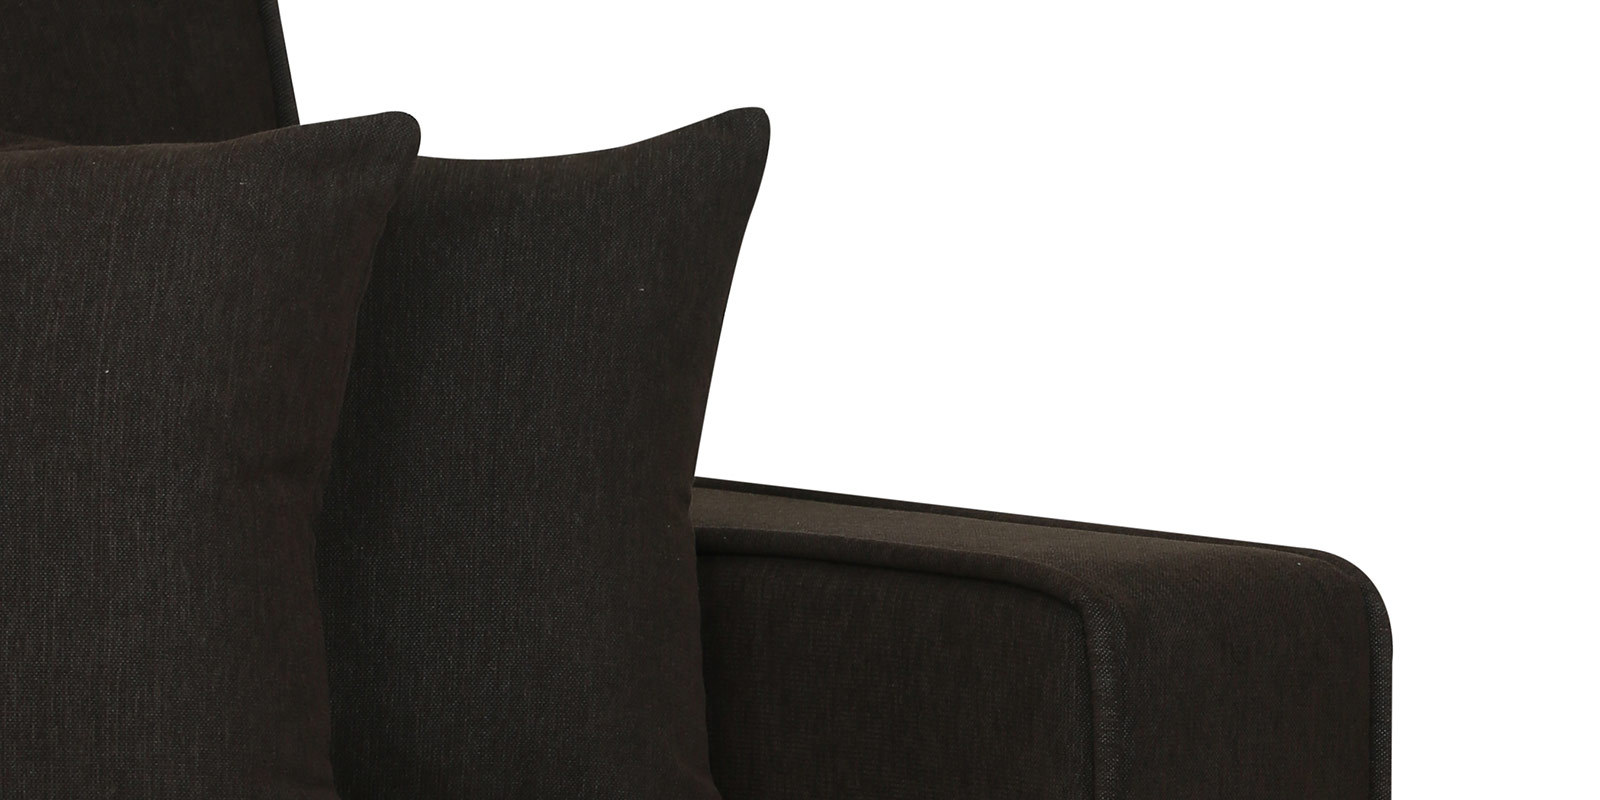Hugo Three Seater Sofa in Chestnut Brown Colour by CasaCraft: (6, 5, 1400, 800)
